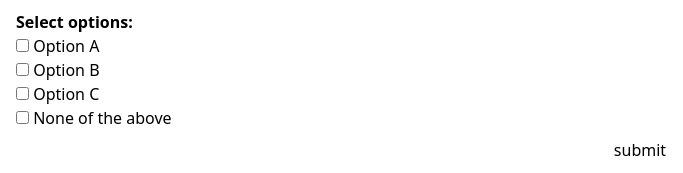
selection field test › check all option are disbled if none is selected
The width and height of the screenshot is (683, 173).
Click the checkbox labelled "None of the above".
click(22, 118)  # box [16,111,29,124]
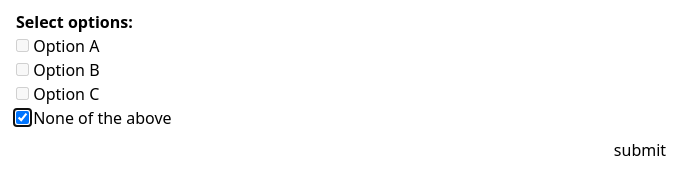
Expected: the checkbox labelled "Option A" is disabled, [16,39,29,52]
Expected: the checkbox labelled "Option B" is disabled, [16,63,29,76]
Expected: the checkbox labelled "Option C" is disabled, [16,87,29,100]
